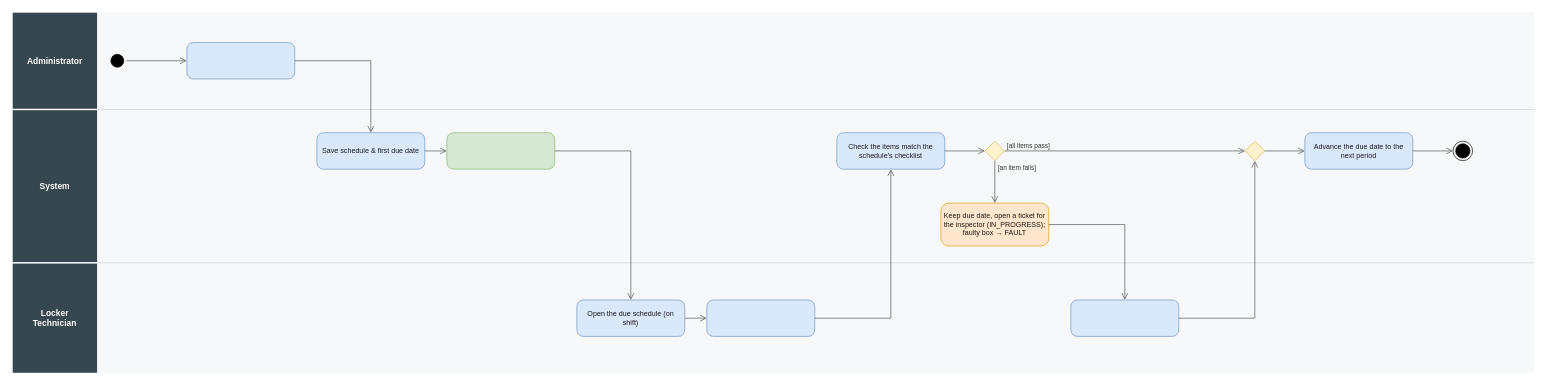
Image size: 1545x385. Some labels were removed from this diagram. Here are the shapes that lost their labels. From the top down, the centre of each, then its label:
(240,60): Create inspection schedule: locker, checklist, period & technician
(500,150): Remind the technician once the schedule is due
(760,317): Mark every checklist item Pass / Fail & attach photos
(1124,317): Handle the ticket (Handle Incident Ticket) until RESOLVED
